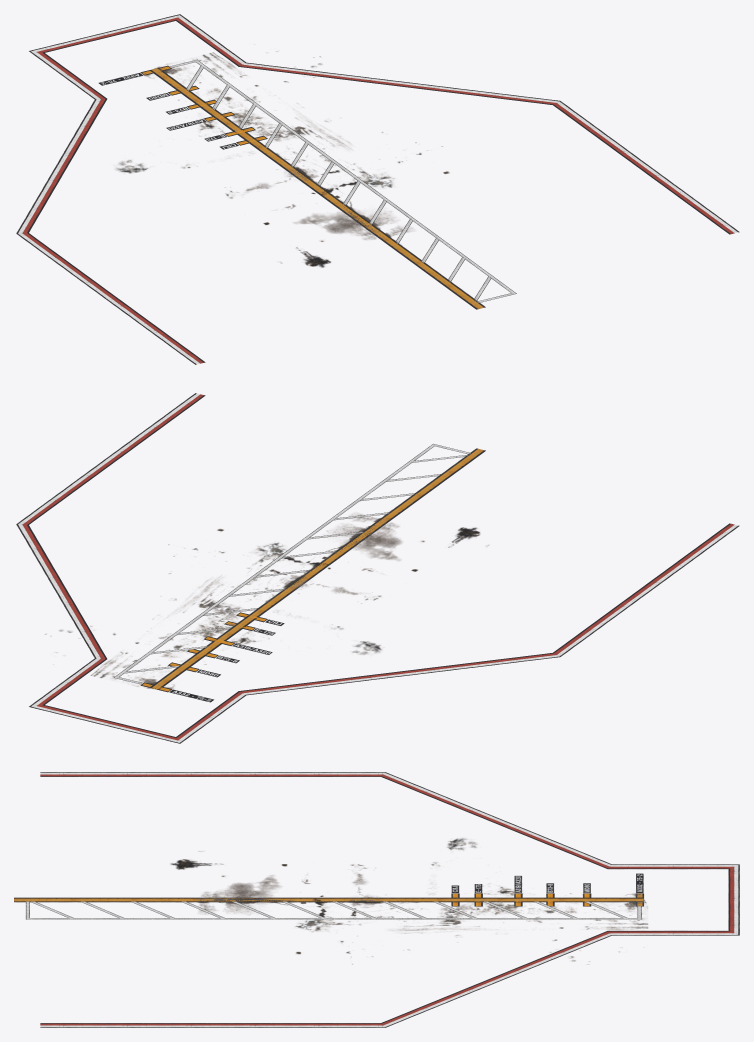
File: Ramp_1_Stripes_Med.gltf
The picture shows the model from 3 angles, top to bottom: view 1: azimuth 30°, elevation 25°; view 2: azimuth 150°, elevation 25°; view 3: azimuth 270°, elevation 25°; orthographic projection. The views are drawn at different scales.
Visible parts, largest first — view 1: Ramp_1_Stripes_Med; view 2: Ramp_1_Stripes_Med; view 3: Ramp_1_Stripes_Med.
Part boxes in pixels (x1=…): Ramp_1_Stripes_Med: x1=16, y1=14, x2=739, y2=364; Ramp_1_Stripes_Med: x1=16, y1=393, x2=739, y2=743; Ramp_1_Stripes_Med: x1=14, y1=772, x2=739, y2=1027.
Bounding box in the file's own units: 41.6 × 0 × 49.88.
